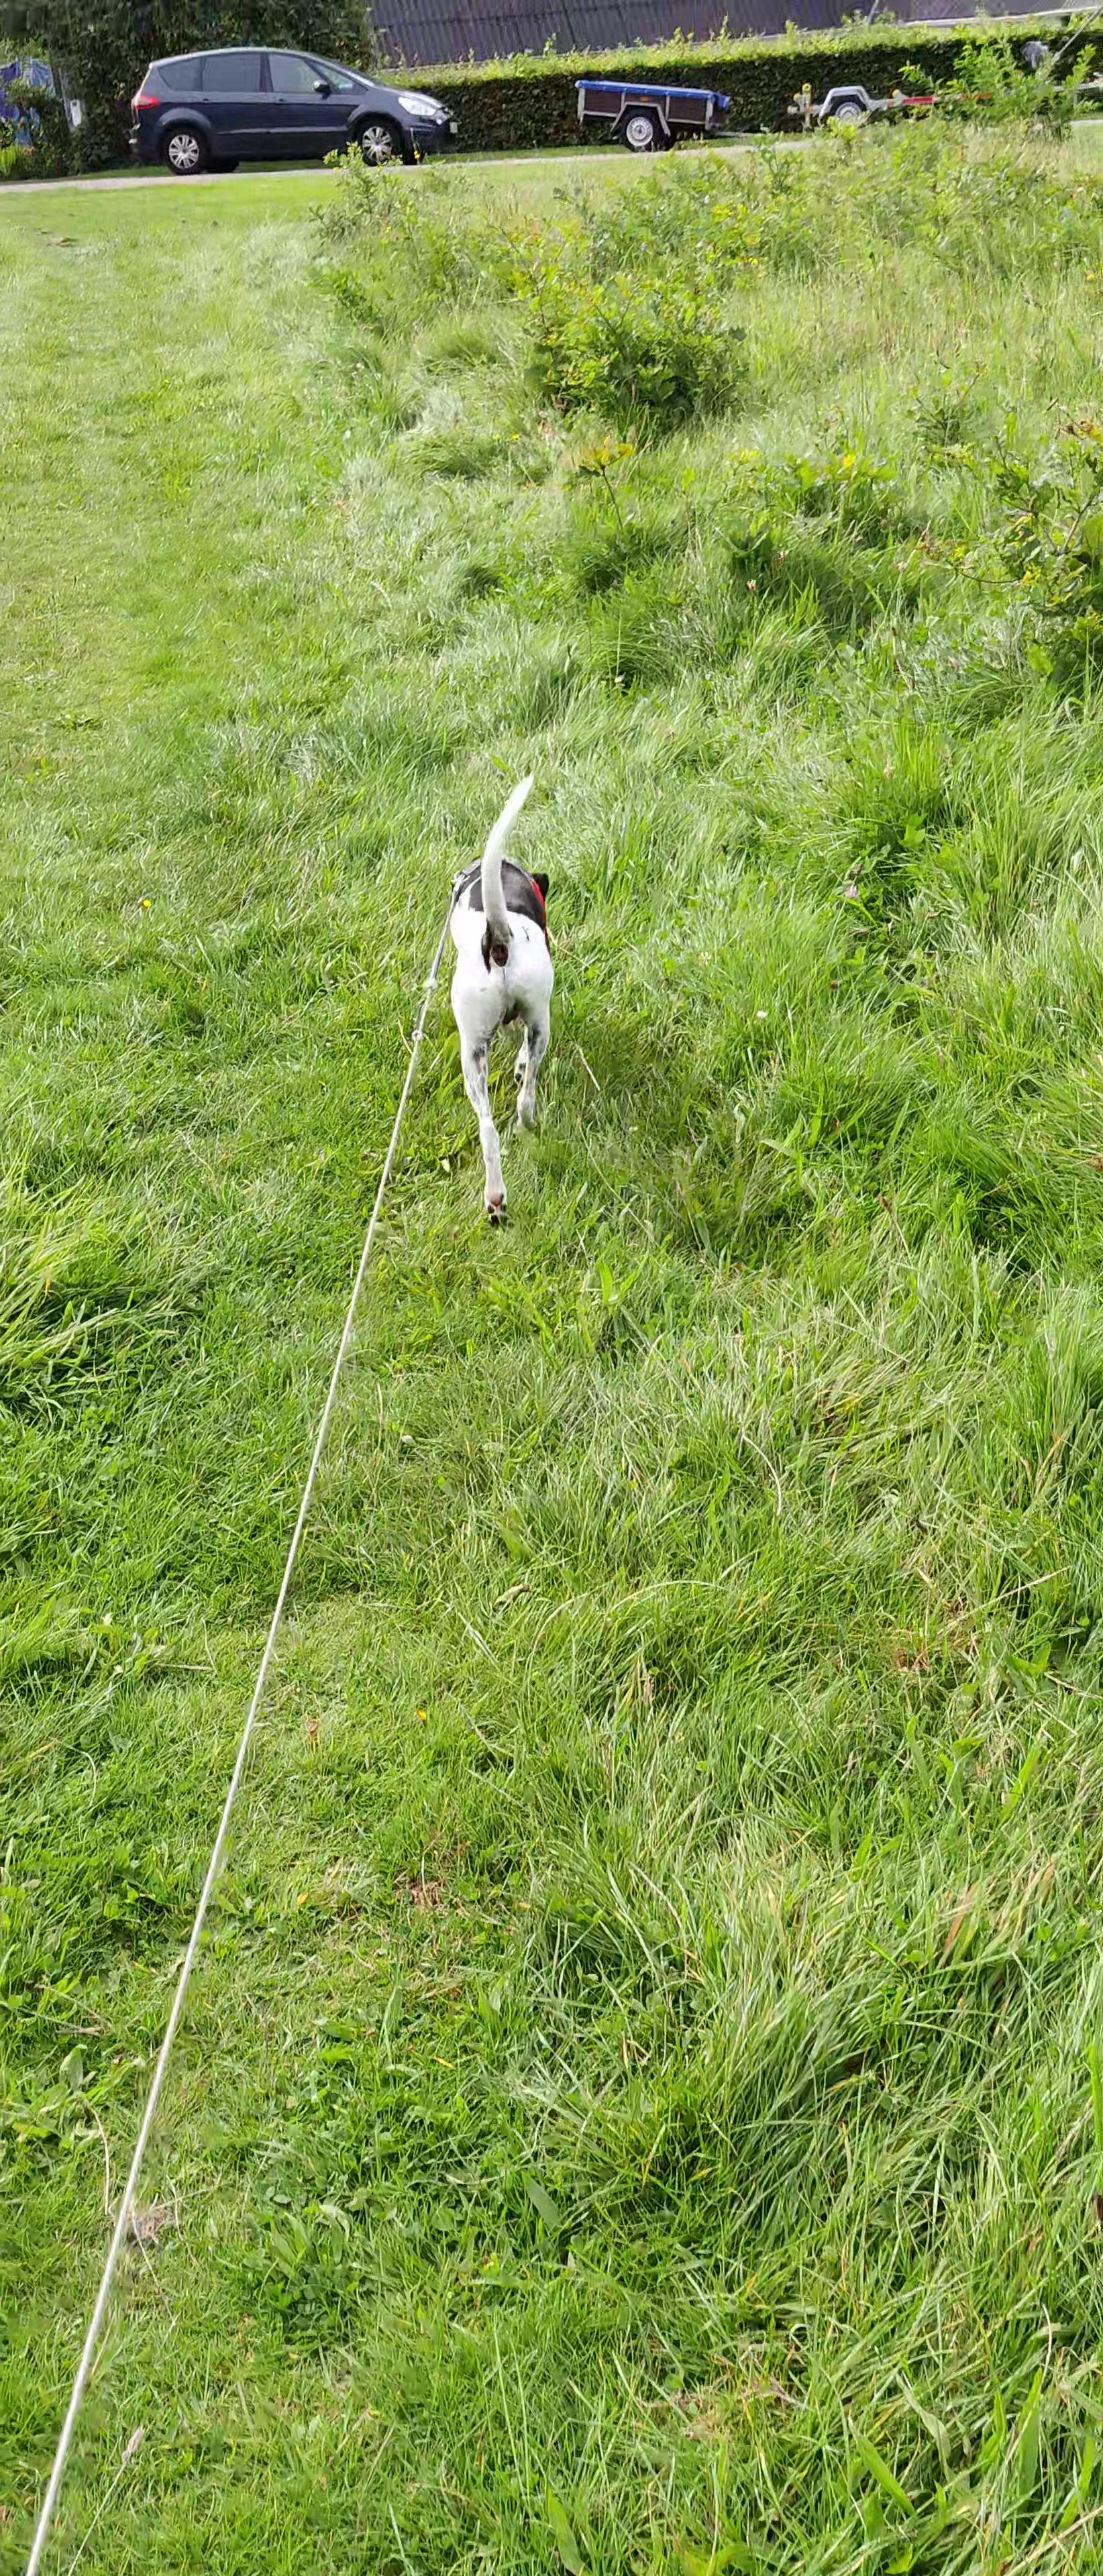Dog: (421, 762, 595, 1245)
